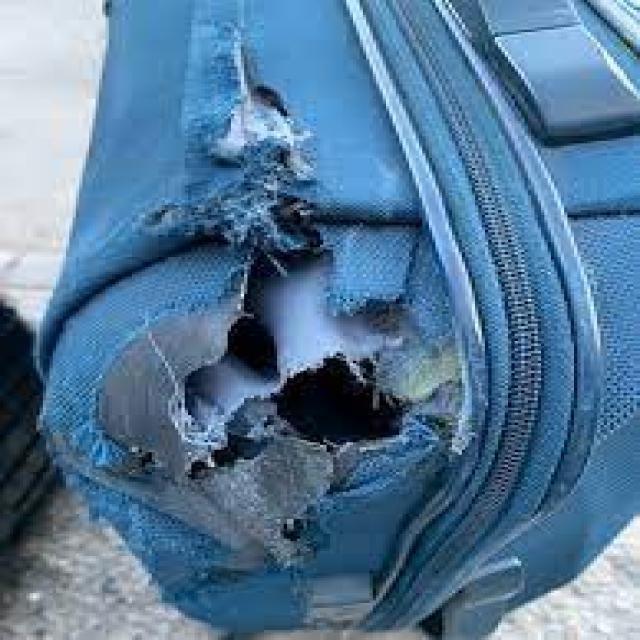Damage-bag: (53, 0, 466, 617)
